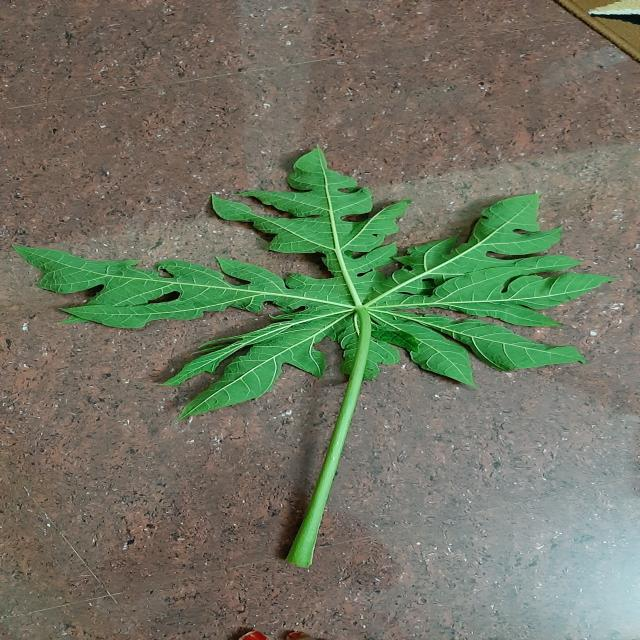papaya: (16, 150, 607, 419)
